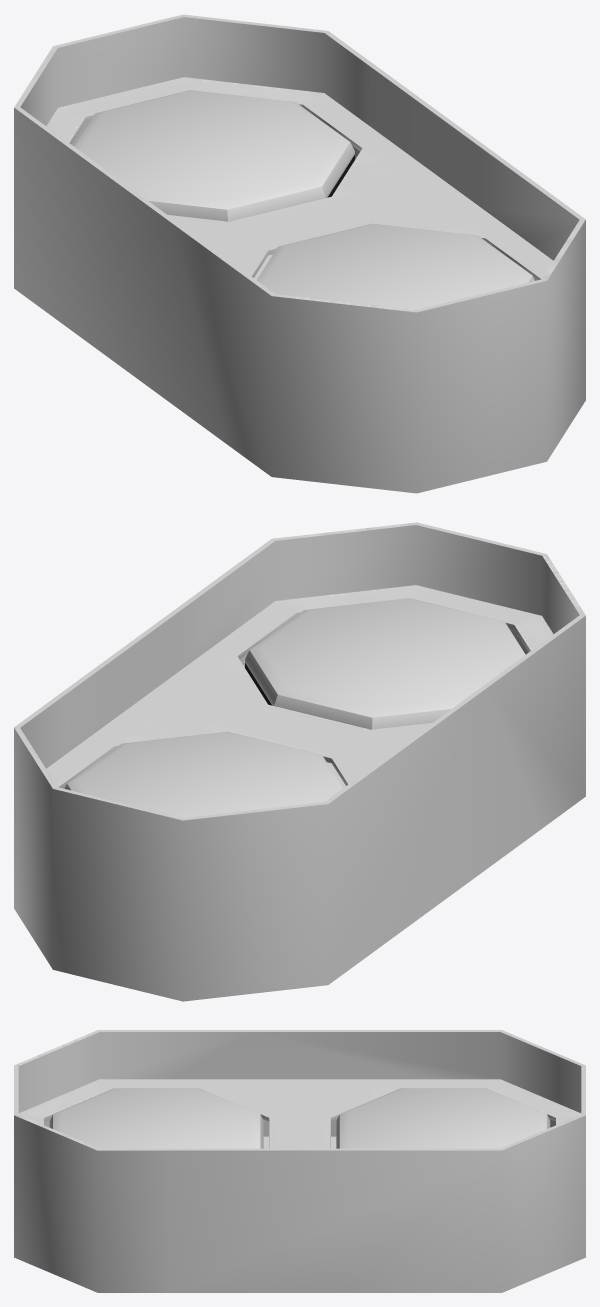
File: dc252bcb-1465-4c65-a03b-9e564204eae0.glb
3 views of the same model, one above another, from view 1: azimuth 30°, elevation 25°; view 2: azimuth 150°, elevation 25°; view 3: azimuth 270°, elevation 25° (orthographic). The views are drawn at different scales.
Visible parts, largest first — view 1: Light_Kinkiet_body, Light_Kinkiet_lamp_2, Light_Kinkiet_lamp; view 2: Light_Kinkiet_body, Light_Kinkiet_lamp, Light_Kinkiet_lamp_2; view 3: Light_Kinkiet_body, Light_Kinkiet_lamp_2, Light_Kinkiet_lamp.
Part boxes in pixels (x1,y1,x2,y2): Light_Kinkiet_body: (14, 14, 585, 493); Light_Kinkiet_lamp_2: (74, 90, 354, 221); Light_Kinkiet_lamp: (257, 223, 534, 309); Light_Kinkiet_body: (14, 522, 585, 1001); Light_Kinkiet_lamp: (245, 598, 525, 729); Light_Kinkiet_lamp_2: (64, 731, 342, 817); Light_Kinkiet_body: (14, 1030, 585, 1292); Light_Kinkiet_lamp_2: (336, 1088, 550, 1148); Light_Kinkiet_lamp: (49, 1088, 263, 1148).
Bounding box in the file's own units: 0.1 × 0.055 × 0.2005.
Materials: 4 (4 with a texture image).
